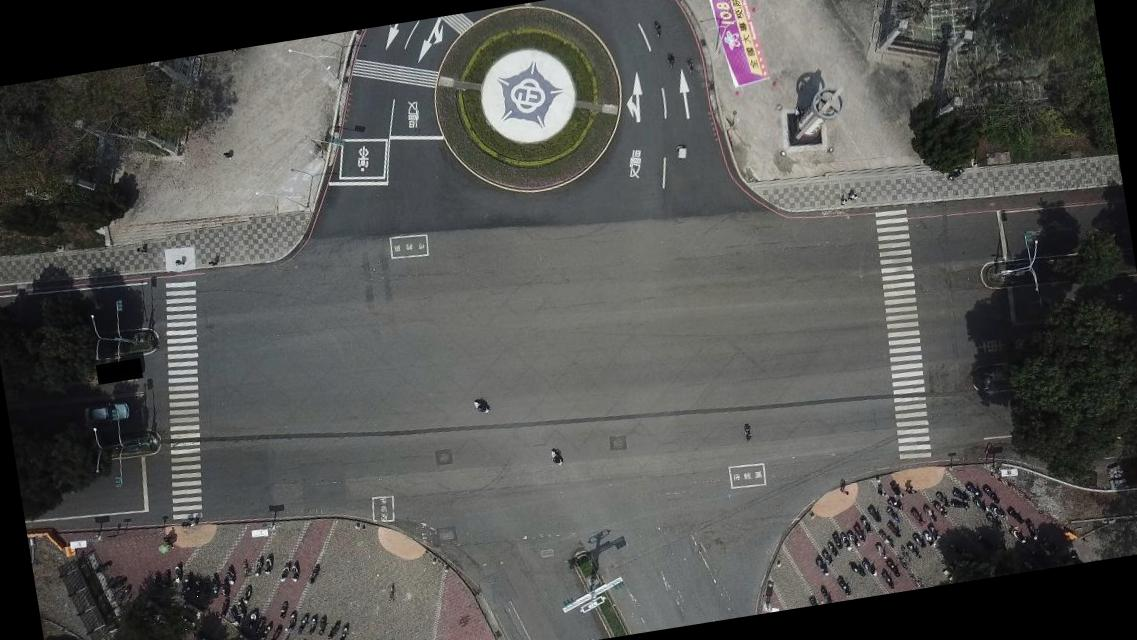vehicle: (78, 400, 130, 427)
